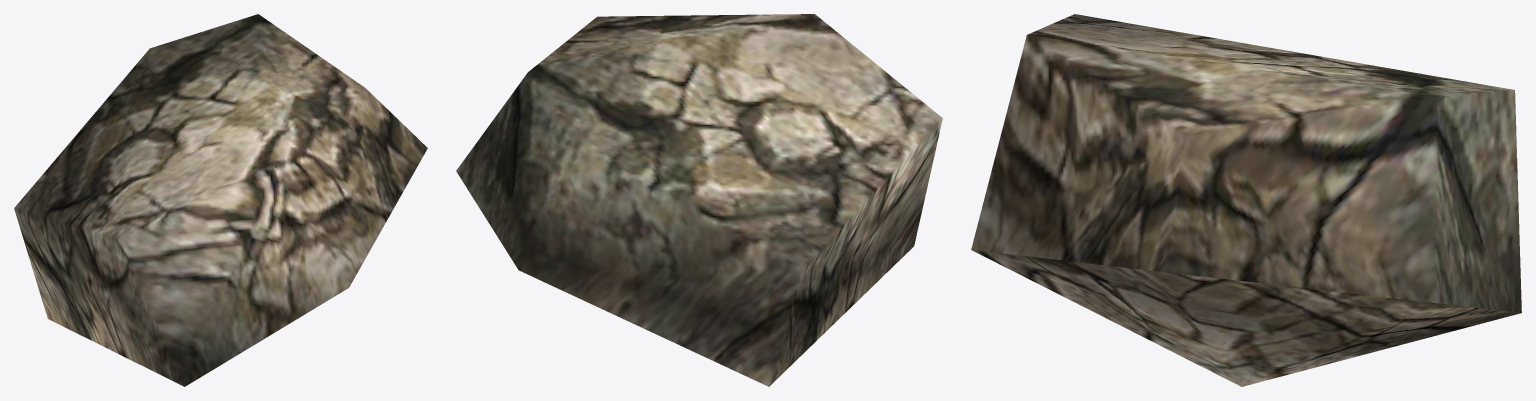
Rendered from Rock1C.FBX.
3 views of the same model, side by side, from view 1: azimuth 30°, elevation 25°; view 2: azimuth 150°, elevation 25°; view 3: azimuth 270°, elevation 25° (orthographic). The views are drawn at different scales.
Visible parts, largest first — view 1: Rock1C_1383; view 2: Rock1C_1383; view 3: Rock1C_1383.
Boxes of the visible parts, left/top/right/bottom form: Rock1C_1383: left=14, top=14, right=427, bottom=386; Rock1C_1383: left=456, top=14, right=942, bottom=386; Rock1C_1383: left=971, top=14, right=1521, bottom=386.
Size of the model in its own units: 47.05 by 32.76 by 45.82.
Materials: 1 (1 with a texture image).
